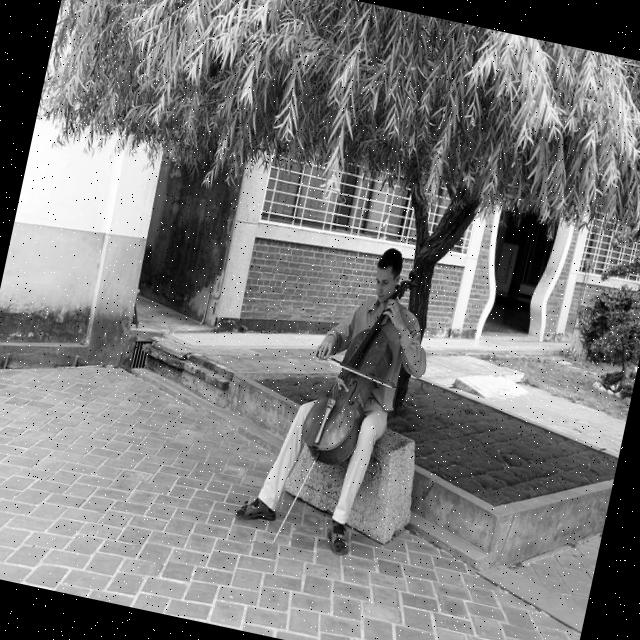cello: (294, 252, 424, 478)
